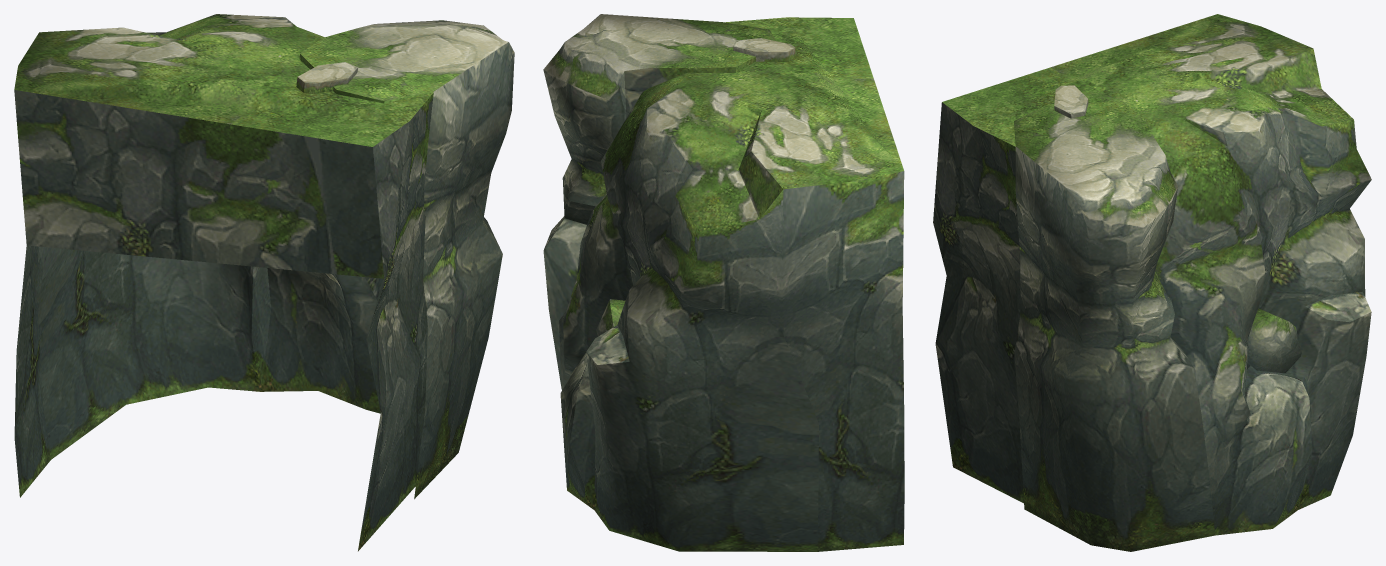
File: 4006_Item_shitou_10.FBX
The picture shows the model from 3 angles, left to right: view 1: azimuth 30°, elevation 25°; view 2: azimuth 150°, elevation 25°; view 3: azimuth 270°, elevation 25°; orthographic projection. The views are drawn at different scales.
Visible parts, largest first — view 1: 4006_Item_shitou_10; view 2: 4006_Item_shitou_10; view 3: 4006_Item_shitou_10.
Boxes of the visible parts, x1,y1,x2,y2 form: 4006_Item_shitou_10: (14, 14, 514, 551); 4006_Item_shitou_10: (543, 14, 904, 551); 4006_Item_shitou_10: (933, 14, 1371, 551).
Bounding box in the file's own units: 673 × 654 × 638.
